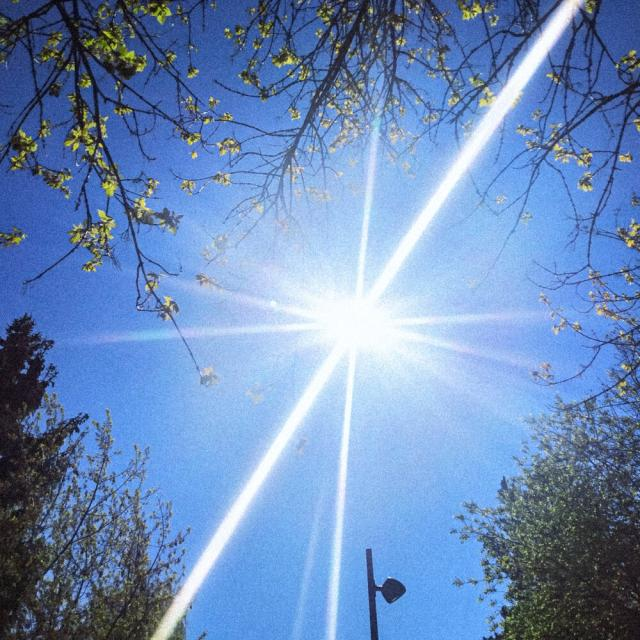sun: (296, 266, 412, 377)
